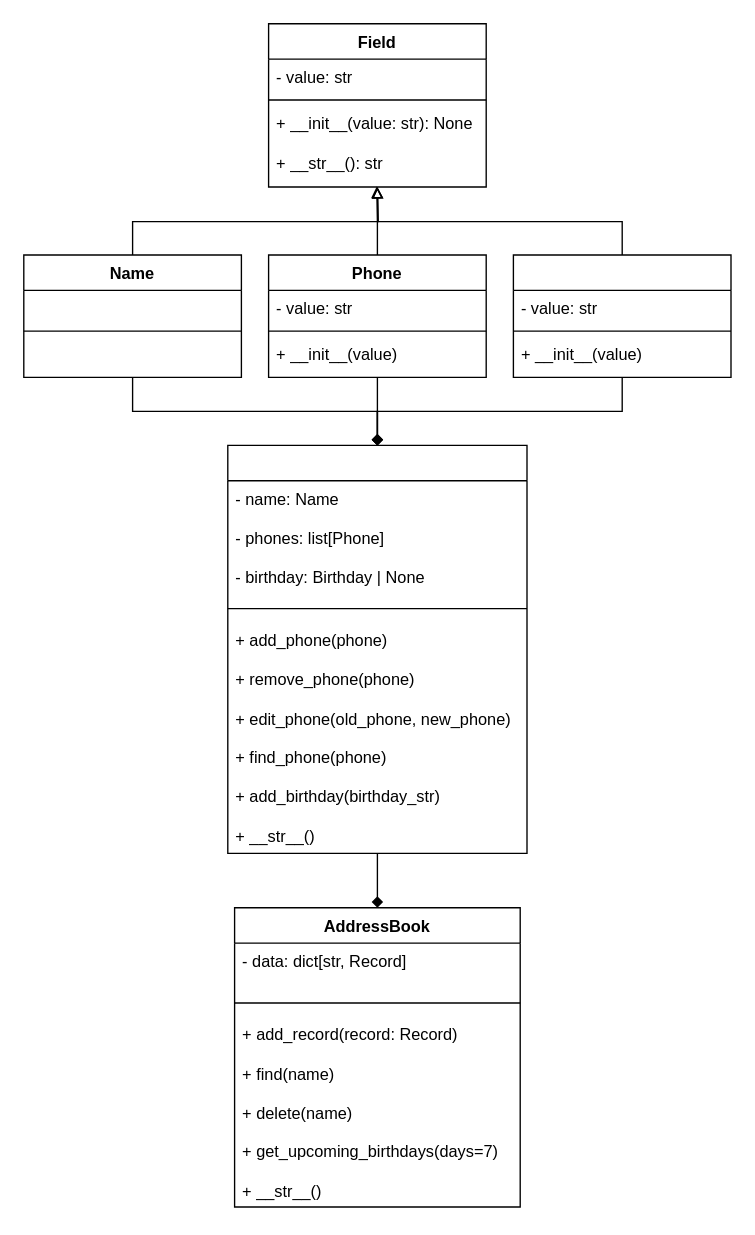
The diagram is 755 pixels wide and 1235 high, and some of its shapes have lost their labels. Each missing label, with the box of its shape:
Birthday: (512, 254, 731, 377)
Record: (226, 444, 527, 853)
